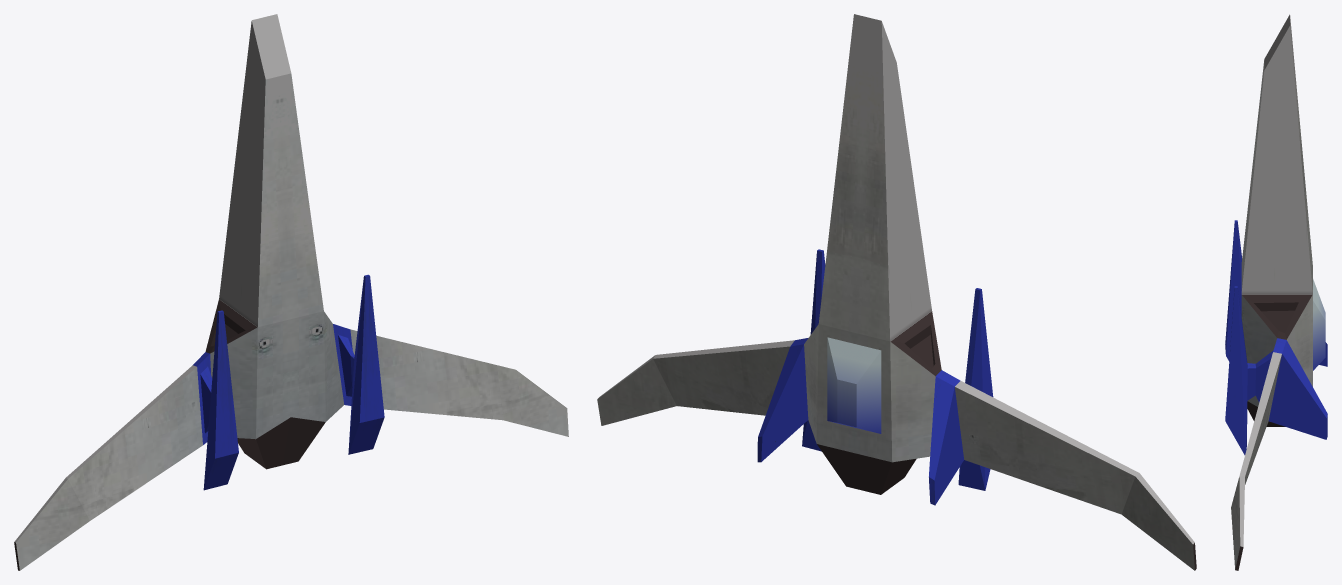
Rendered from Players.fbx.
3 views of the same model, side by side, from view 1: azimuth 30°, elevation 25°; view 2: azimuth 150°, elevation 25°; view 3: azimuth 270°, elevation 25° (orthographic). The views are drawn at different scales.
Visible parts, largest first — view 1: PlayerShip; view 2: PlayerShip; view 3: PlayerShip.
Part boxes in pixels (bbox=[...]): PlayerShip: bbox=[14, 14, 568, 570]; PlayerShip: bbox=[597, 14, 1196, 570]; PlayerShip: bbox=[1225, 14, 1327, 570].
Size of the model in its own units: 368 by 297 by 64.62.
